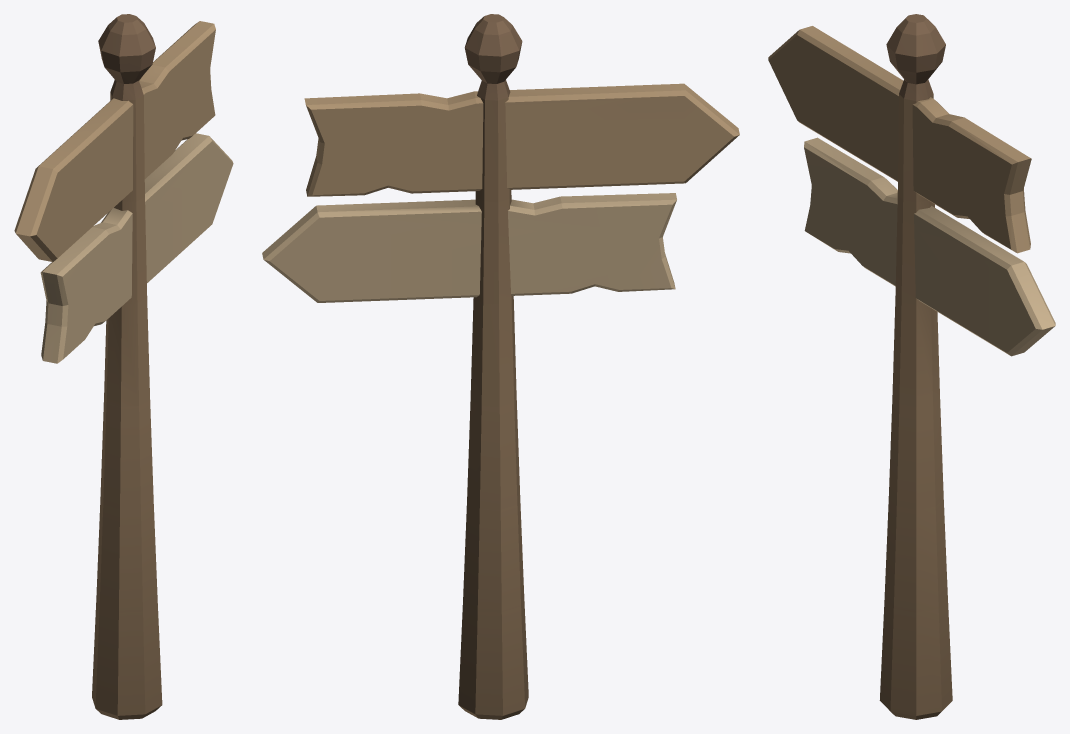
File: signpost.glb
The picture shows the model from 3 angles, left to right: view 1: azimuth 30°, elevation 25°; view 2: azimuth 150°, elevation 25°; view 3: azimuth 270°, elevation 25°; orthographic projection.
Parts seen in each view (by area): view 1: signpost.001; view 2: signpost.001; view 3: signpost.001.
Boxes of the visible parts, x1,y1,x2,y2 form: signpost.001: (14, 14, 233, 719); signpost.001: (262, 14, 739, 719); signpost.001: (768, 14, 1055, 719).
Size of the model in its own units: 1.16 by 2.2 by 0.8311.
